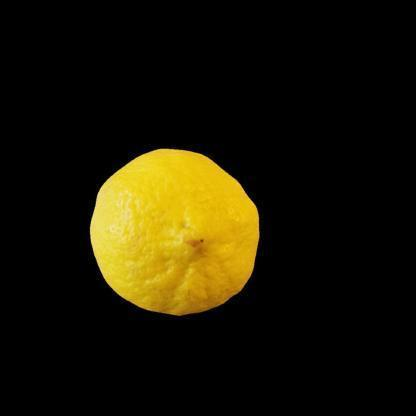lemon: (90, 148, 260, 315)
